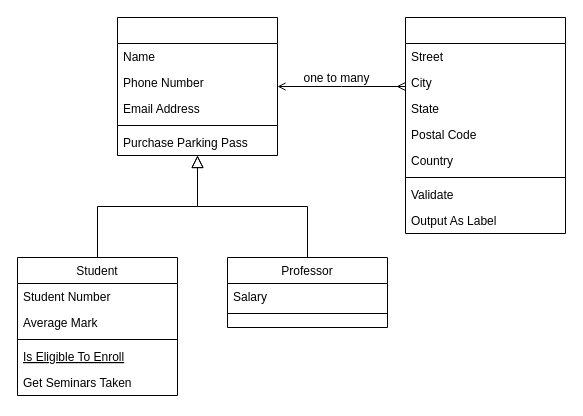
Some shapes in this 583 by 416 pixel diagram are drawn without their labels. The shapes that lost their labels are listed below. From the top down, each one's box as (x1, y1, x2, y2) in pixels, then its label:
(116, 16, 278, 156): Person
(404, 16, 566, 234): Recipies
